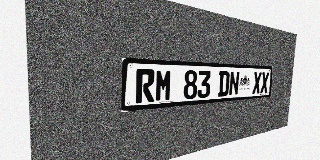3: (197, 70, 211, 98)
8: (183, 70, 198, 100)
D: (218, 71, 230, 97)
M: (155, 69, 172, 102)
N: (228, 71, 240, 96)
R: (136, 69, 155, 103)
X: (252, 72, 262, 94), (260, 72, 269, 93)
